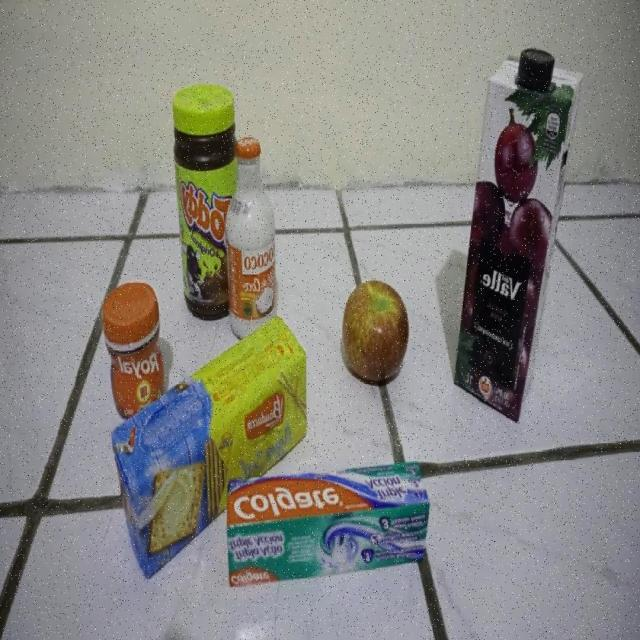Apple: (340, 278, 410, 382)
ChocolatePowder: (172, 82, 236, 322)
CoconutMilk: (224, 134, 276, 344)
Cracker: (110, 317, 308, 581)
Toothpaste: (226, 461, 432, 587)
Yeast: (100, 280, 164, 424)
